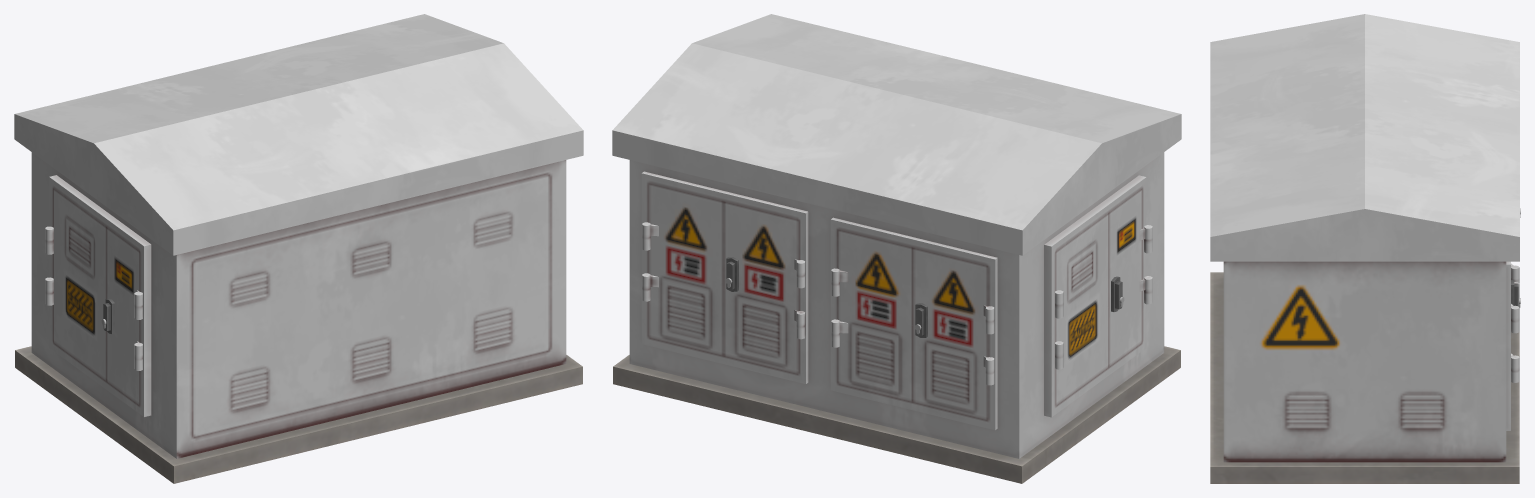
Rendered from Pfb_ElectricBox__2.fbx.
3 renders of one model, left to right at view 1: azimuth 30°, elevation 25°; view 2: azimuth 150°, elevation 25°; view 3: azimuth 270°, elevation 25°, orthographic. The views are drawn at different scales.
Visible parts, largest first — view 1: Mat_ElectricBox_03; view 2: Mat_ElectricBox_03; view 3: Mat_ElectricBox_03.
Part boxes in pixels (x1,y1,x2,y2): Mat_ElectricBox_03: [14, 14, 583, 483]; Mat_ElectricBox_03: [612, 14, 1181, 483]; Mat_ElectricBox_03: [1210, 14, 1520, 483].
Size of the model in its own units: 3.07 by 1.99 by 2.04.
Materials: 1 (1 with a texture image).
